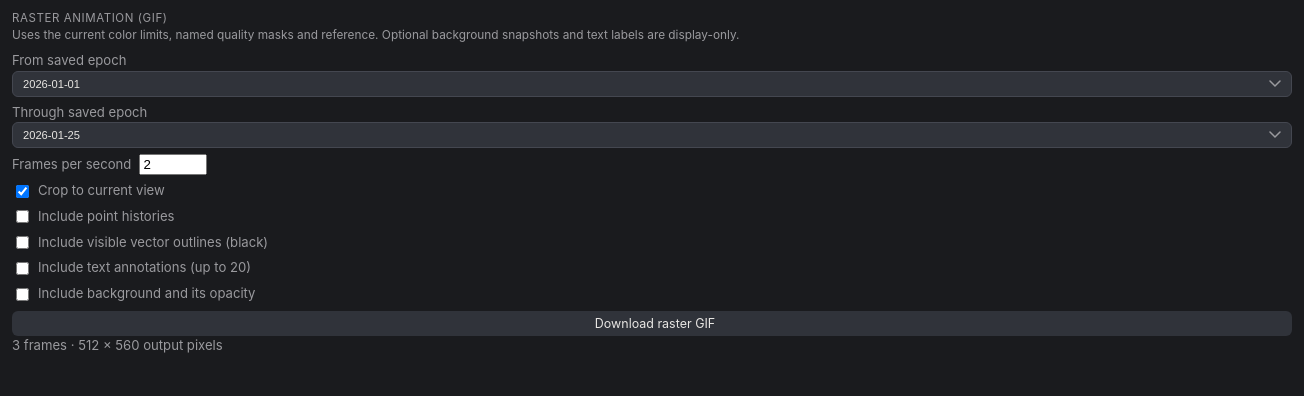
Test case: explains that background capture requires the current crop
The image size is (1304, 396).
Expected: the button "Download raster GIF" is enabled, 12,311 -> 1292,336
Click the checkbox labelled "Include background and its opacity".
click(22, 294)  # box 16,288 -> 29,300
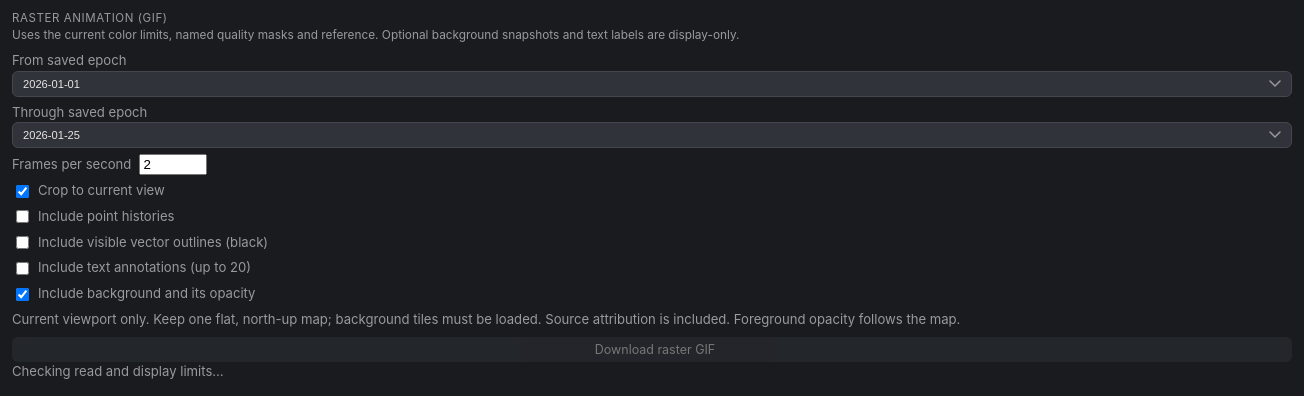
Click the checkbox named "Crop GIF to current view".
click(22, 191)  # box 16,185 -> 29,198
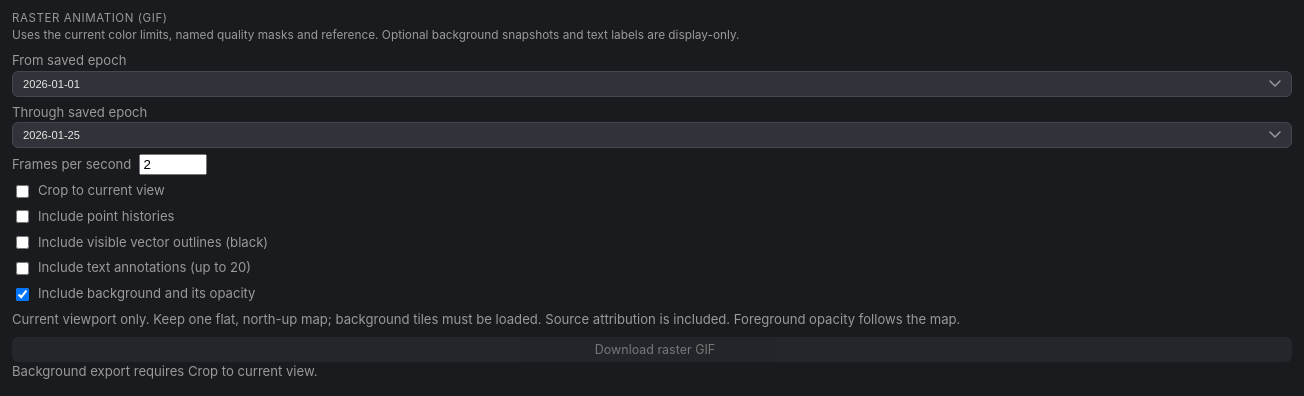
Expected: the button "Download raster GIF" is disabled, 12,336 -> 1292,362
Expected: the text "Background export requires Crop to current view." is shown, 12,362 -> 318,378
